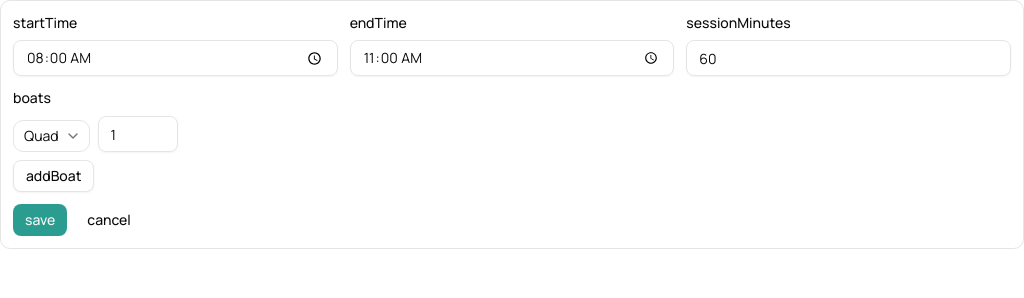
Test: WindowForm › keeps the fields when the refusal carries no specific error
Replace the text in the time field labelled "startTime" with "06:00" at (175, 58), box top-left (13, 40), bottom-right (338, 76)
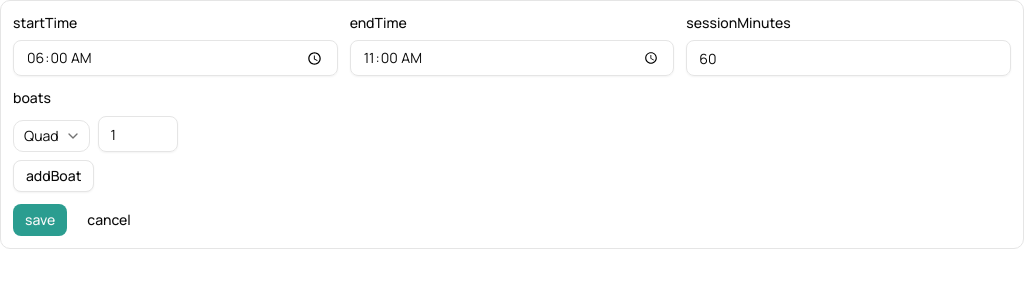
Submit the form
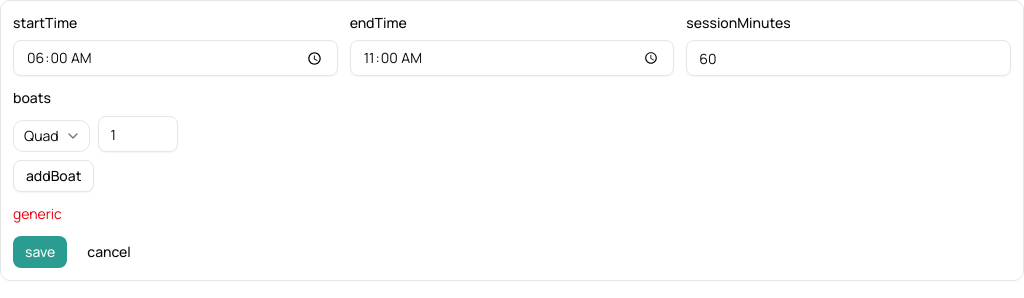
expect the text "generic" is shown: met, box top-left (13, 204), bottom-right (62, 223)
